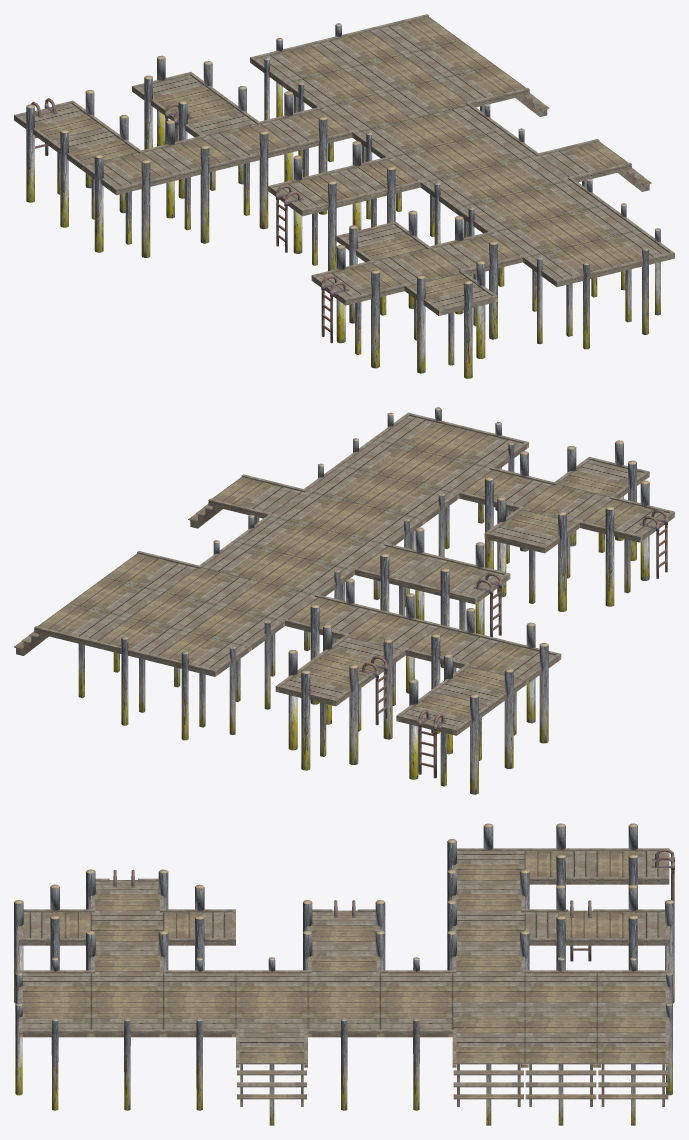
The model's file is sambasi.obj.
3 views of the same model, one above another, from view 1: azimuth 30°, elevation 25°; view 2: azimuth 150°, elevation 25°; view 3: azimuth 270°, elevation 25° (orthographic). The views are drawn at different scales.
Parts seen in each view (by area): view 1: copy.009, copy.007, dock.020, dock.024, copy.001, dock.007, dock.009, copy.003, copy.000, copy.002, dock.012, dock.026 (+25 smaller); view 2: copy.000, copy.003, copy.007, copy.008, dock.020, dock.004, dock.024, dock.025, copy.002, dock.017, copy.009, dock.003 (+25 smaller); view 3: dock.008, dock.001, dock.002, dock.022, dock.009, copy.000, copy.009, dock.025, copy.003, copy.015, dock.019, copy.014 (+25 smaller).
Part boxes in pixels (bbox=[...]): copy.009: bbox=[404, 260, 497, 378]; copy.007: bbox=[311, 245, 404, 368]; dock.020: bbox=[268, 155, 361, 270]; dock.024: bbox=[82, 150, 175, 257]; copy.001: bbox=[141, 120, 234, 243]; dock.007: bbox=[523, 244, 615, 349]; dock.009: bbox=[582, 228, 674, 334]; copy.003: bbox=[14, 90, 106, 202]; copy.000: bbox=[132, 55, 224, 149]; copy.002: bbox=[48, 115, 140, 227]; dock.012: bbox=[260, 91, 352, 214]; dock.026: bbox=[200, 121, 293, 229]; copy.000: bbox=[275, 650, 370, 770]; copy.003: bbox=[396, 679, 491, 794]; copy.007: bbox=[580, 480, 674, 606]; copy.008: bbox=[484, 496, 579, 611]; dock.020: bbox=[415, 542, 510, 668]; dock.004: bbox=[155, 632, 250, 740]; dock.024: bbox=[466, 622, 561, 743]; dock.025: bbox=[311, 624, 405, 739]; copy.002: bbox=[431, 653, 526, 768]; dock.017: bbox=[354, 527, 449, 620]; copy.009: bbox=[554, 440, 649, 560]; dock.003: bbox=[94, 618, 189, 725]; dock.008: bbox=[452, 1031, 524, 1125]; dock.001: bbox=[525, 1033, 597, 1125]; dock.002: bbox=[597, 1031, 669, 1125]; dock.022: bbox=[236, 1031, 307, 1125]; dock.009: bbox=[15, 1001, 91, 1110]; copy.000: bbox=[597, 884, 674, 1003]; copy.009: bbox=[14, 884, 91, 1002]; dock.025: bbox=[525, 884, 597, 970]; copy.003: bbox=[597, 823, 674, 901]; copy.015: bbox=[91, 1002, 163, 1110]; dock.019: bbox=[380, 1002, 452, 1110]; copy.014: bbox=[163, 1002, 235, 1110].
Bounding box in the file's own units: 111 × 23.02 × 137.
